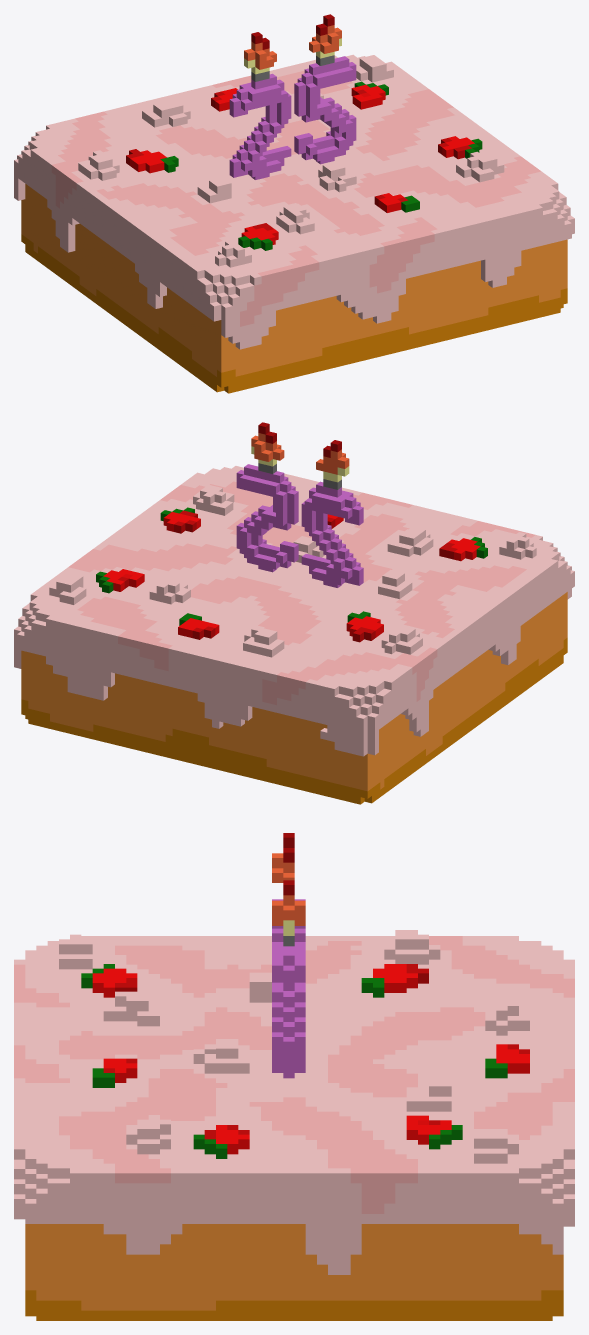
Rendered from cake2.glb.
3 renders of one model, top to bottom at view 1: azimuth 30°, elevation 25°; view 2: azimuth 150°, elevation 25°; view 3: azimuth 270°, elevation 25°, orthographic. The views are drawn at different scales.
Visible parts, largest first — view 1: Node1; view 2: Node1; view 3: Node1.
Boxes of the visible parts, box(x1,y1,x2,y2) form: Node1: box(14, 14, 574, 393); Node1: box(14, 422, 574, 804); Node1: box(14, 833, 574, 1320).
Size of the model in its own units: 5 by 3.4 by 5.
1 material, 1 textured.
